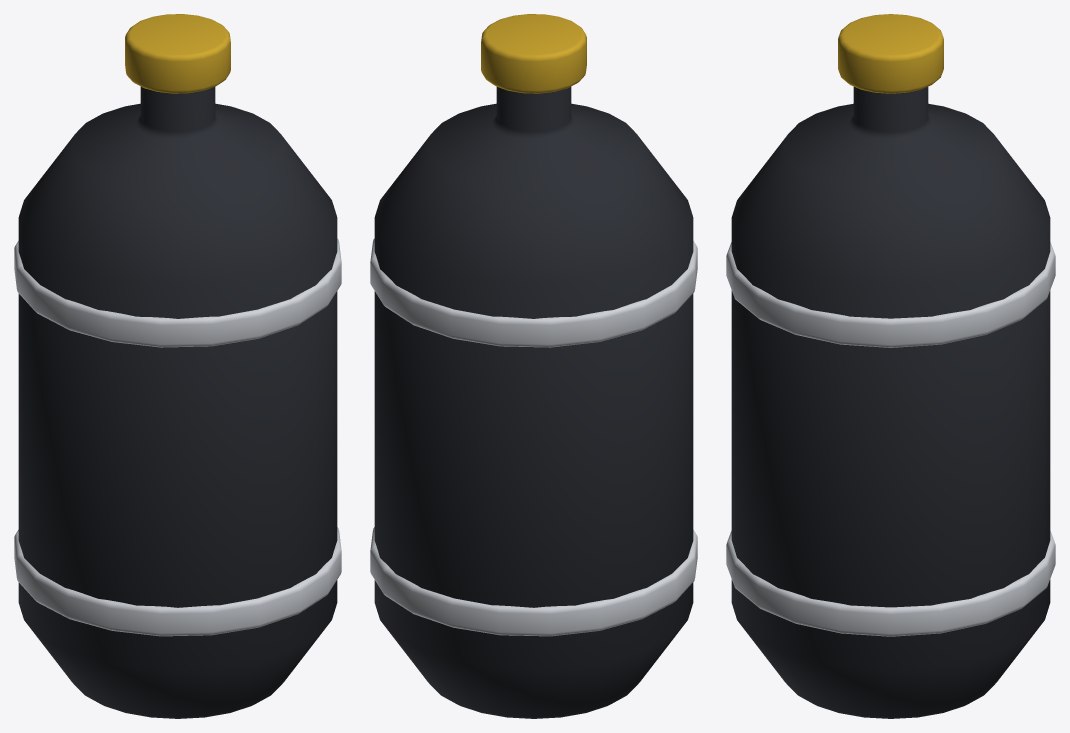
File: tanque_ar.glb
3 views of the same model, side by side, from view 1: azimuth 30°, elevation 25°; view 2: azimuth 150°, elevation 25°; view 3: azimuth 270°, elevation 25° (orthographic).
Parts seen in each view (by area): view 1: tanque_ar; view 2: tanque_ar; view 3: tanque_ar.
Boxes of the visible parts, x1=… form: tanque_ar: x1=14, y1=14, x2=341, y2=718; tanque_ar: x1=370, y1=14, x2=697, y2=718; tanque_ar: x1=726, y1=14, x2=1055, y2=718.
Size of the model in its own units: 0.62 by 1.38 by 0.62.
